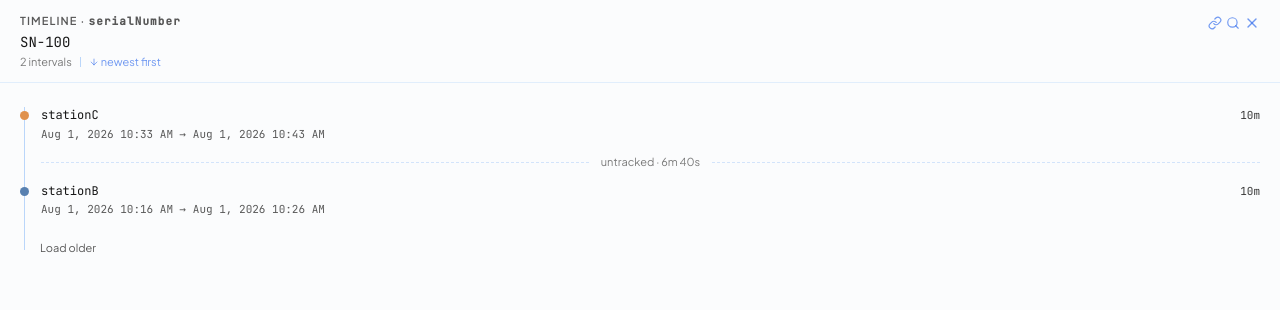
EntityTimelinePanel pager + copy link › the oldest-first toggle reads chronologically with the pager at the top
Click the button with test id "timeline-sort-toggle".
click(125, 62)  # box [89,54,161,70]
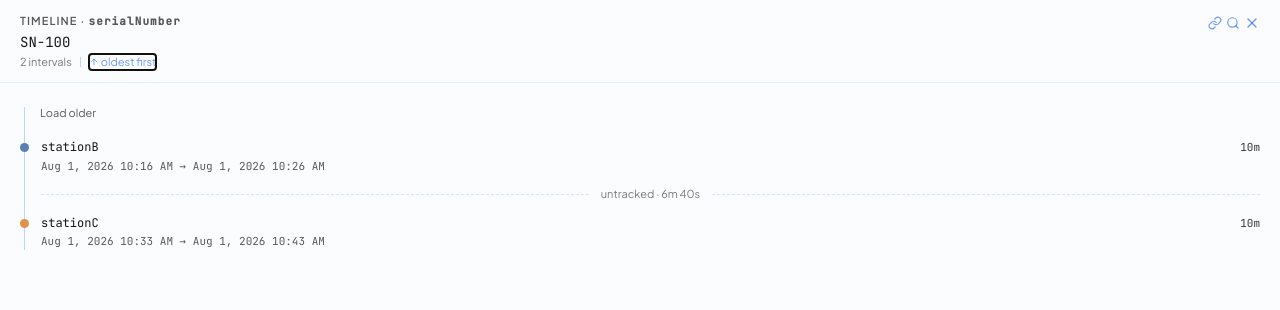
Click the button "Load older".
click(68, 113)  # box [40,105,96,122]
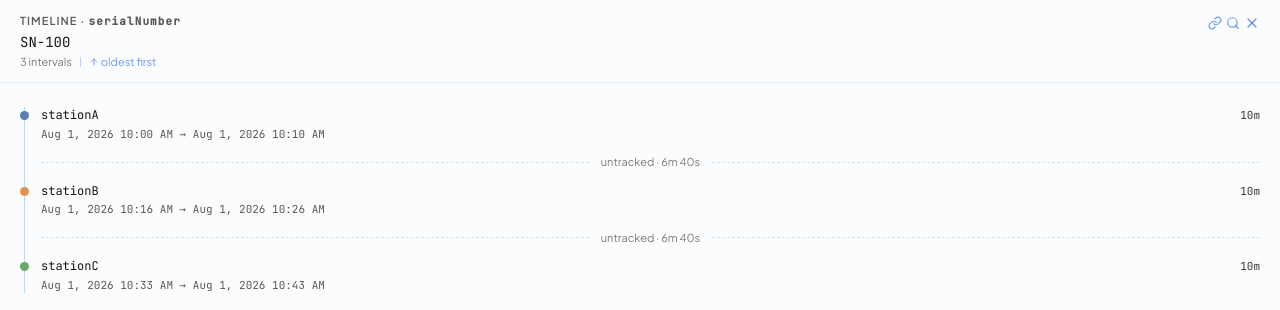
Expected: the text "stationA" is shown, [41,107,99,123]
